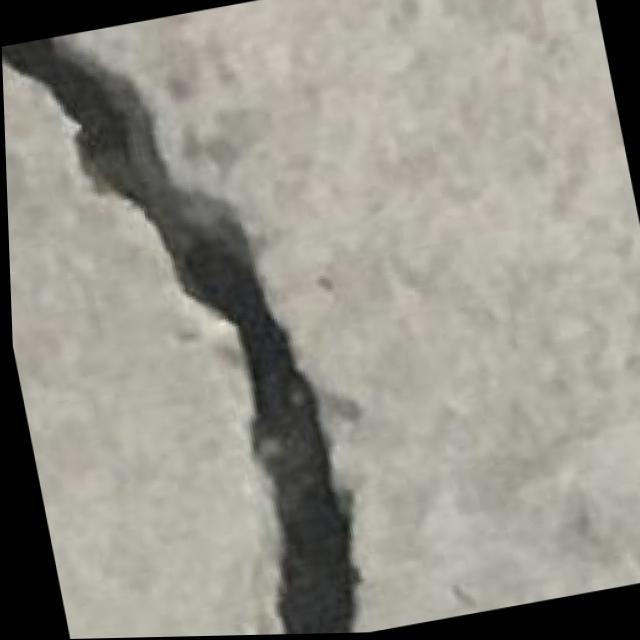Crack: (0, 4, 370, 640)
